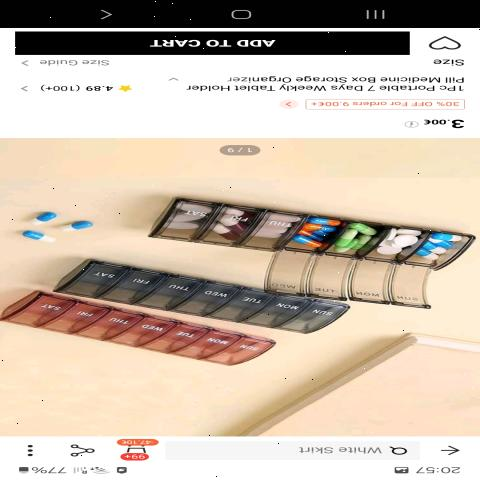PillBox: (38, 250, 360, 340)
